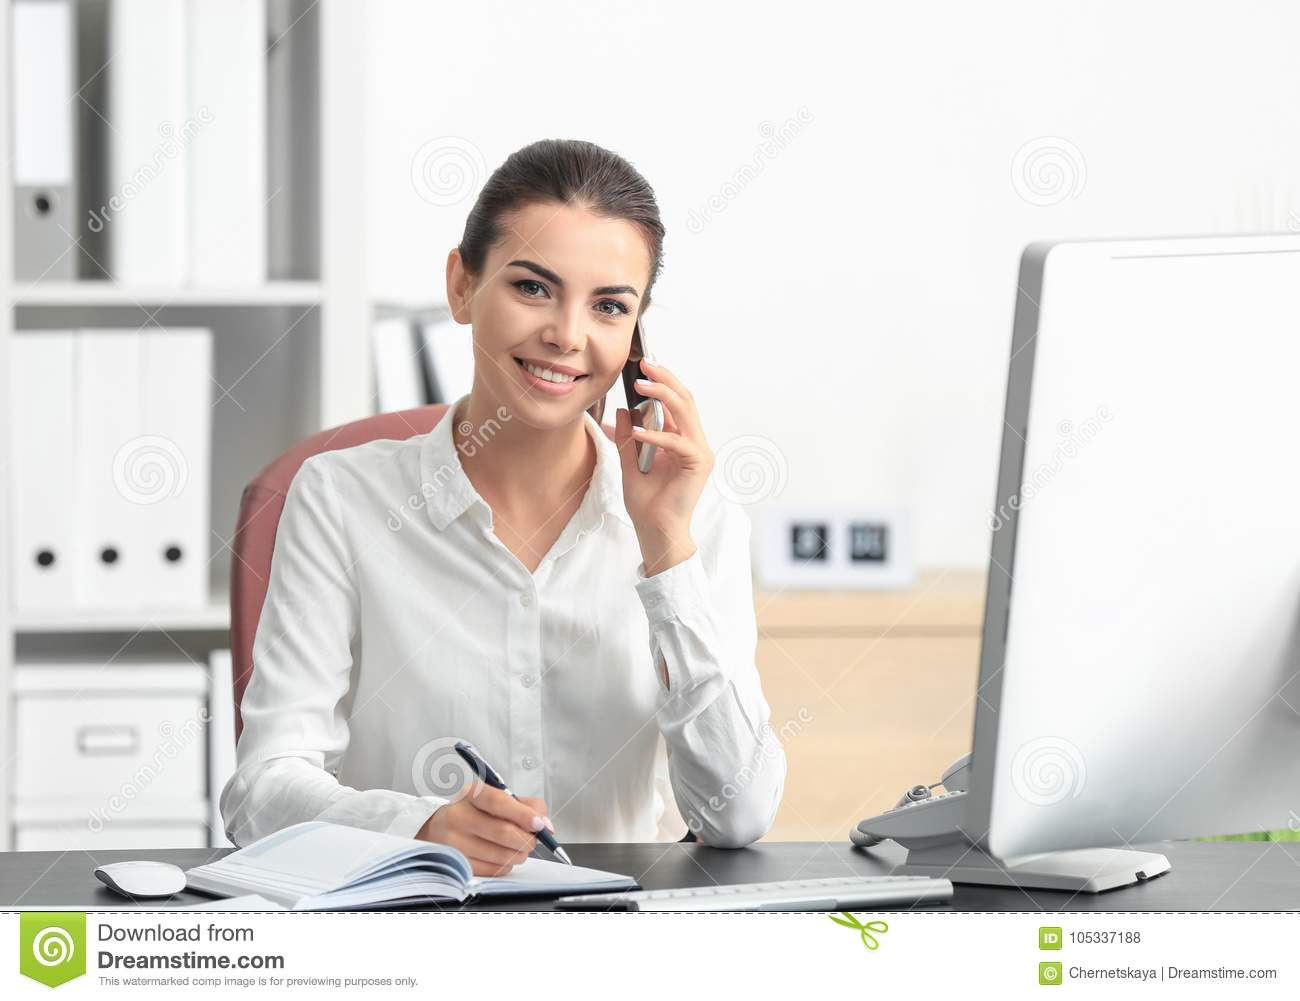phone: (624, 323, 664, 469)
talk: (493, 244, 718, 572)
